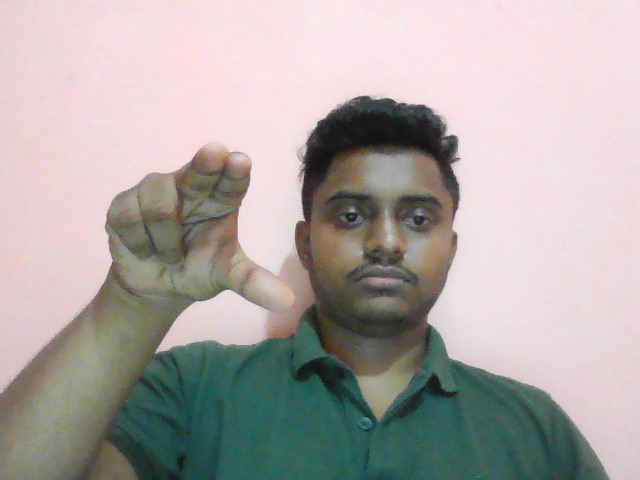No: (106, 140, 297, 325)
